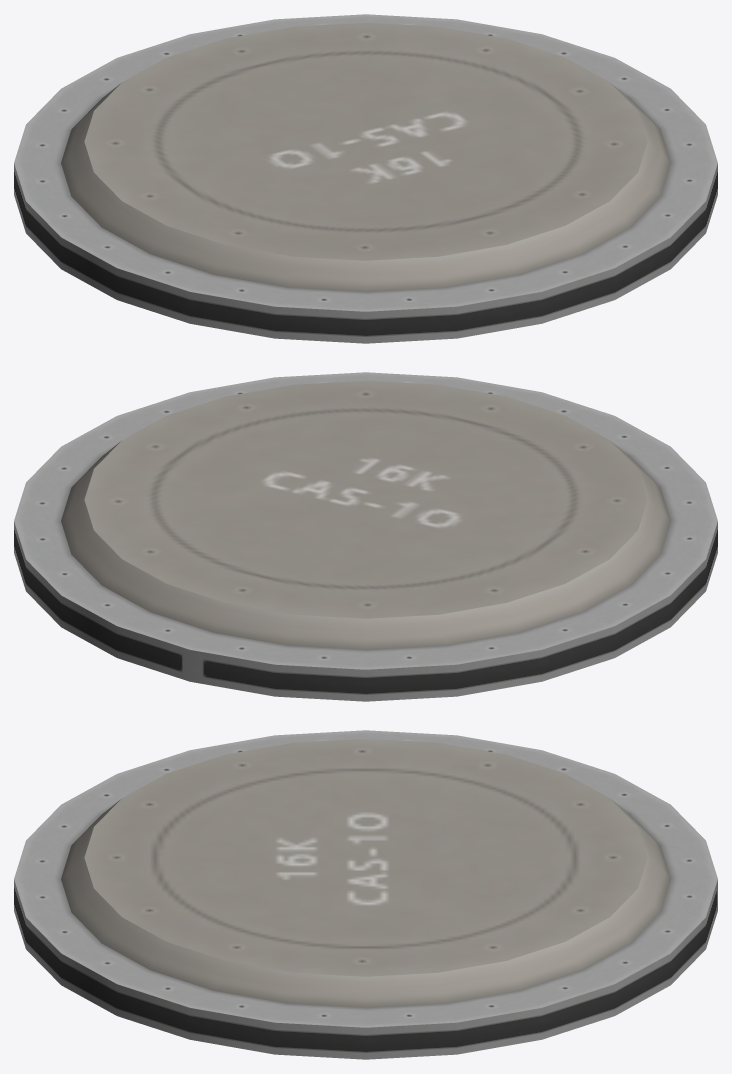
Rendered from Castor_Control_1_O.obj.
3 renders of one model, top to bottom at view 1: azimuth 30°, elevation 25°; view 2: azimuth 150°, elevation 25°; view 3: azimuth 270°, elevation 25°, orthographic.
Parts seen in each view (by area): view 1: Castor_Control_1_O; view 2: Castor_Control_1_O; view 3: Castor_Control_1_O.
Part boxes in pixels (bbox=[...]): Castor_Control_1_O: bbox=[14, 14, 717, 343]; Castor_Control_1_O: bbox=[14, 372, 717, 701]; Castor_Control_1_O: bbox=[14, 730, 717, 1059].
Bounding box in the file's own units: 0.9375 × 0.1094 × 0.9375.
